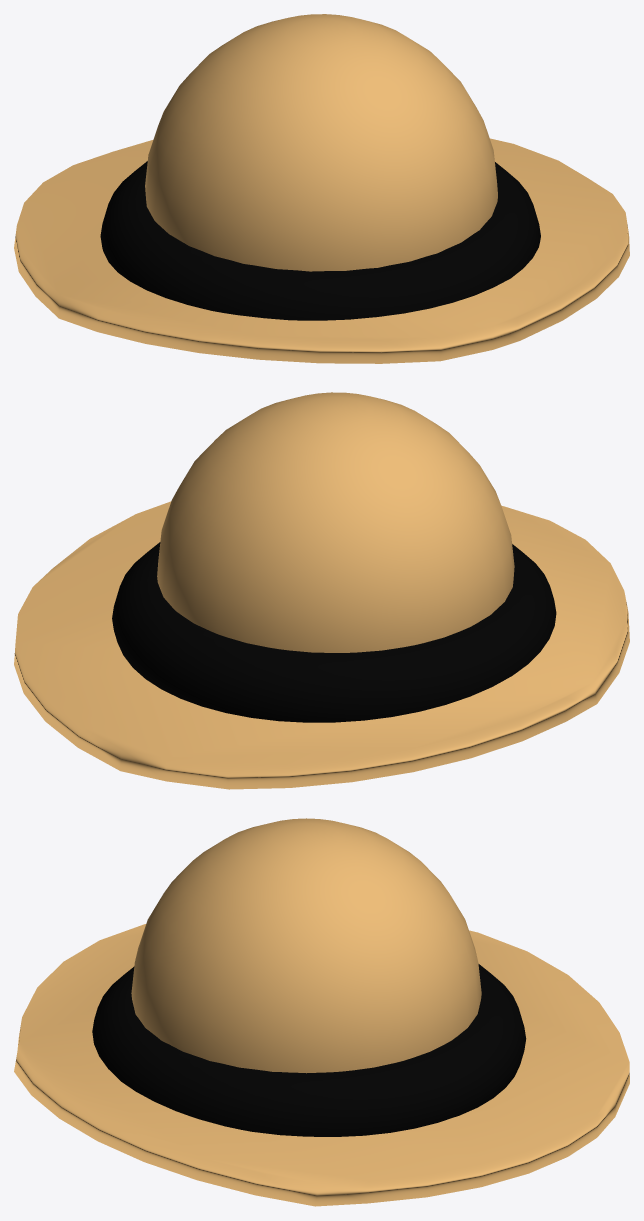
The model's file is notverycowboyhat.glb.
The picture shows the model from 3 angles, top to bottom: view 1: azimuth 30°, elevation 25°; view 2: azimuth 150°, elevation 25°; view 3: azimuth 270°, elevation 25°; orthographic projection. The views are drawn at different scales.
Visible parts, largest first — view 1: Sphere, Cylinder, Torus; view 2: Sphere, Cylinder, Torus; view 3: Sphere, Cylinder, Torus.
Boxes of the visible parts, <box> form: Sphere: <box>145,14,497,271</box>; Cylinder: <box>14,138,629,363</box>; Torus: <box>100,161,540,320</box>; Sphere: <box>157,392,514,652</box>; Cylinder: <box>14,501,629,789</box>; Torus: <box>112,542,556,722</box>; Sphere: <box>131,818,481,1073</box>; Cylinder: <box>14,924,629,1206</box>; Torus: <box>92,964,526,1136</box>.
Size of the model in its own units: 4.52 by 2.08 by 4.56.
